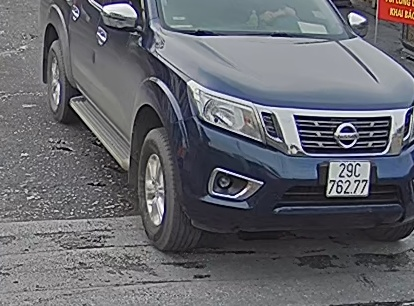vehicle plate: (324, 157, 371, 199)
